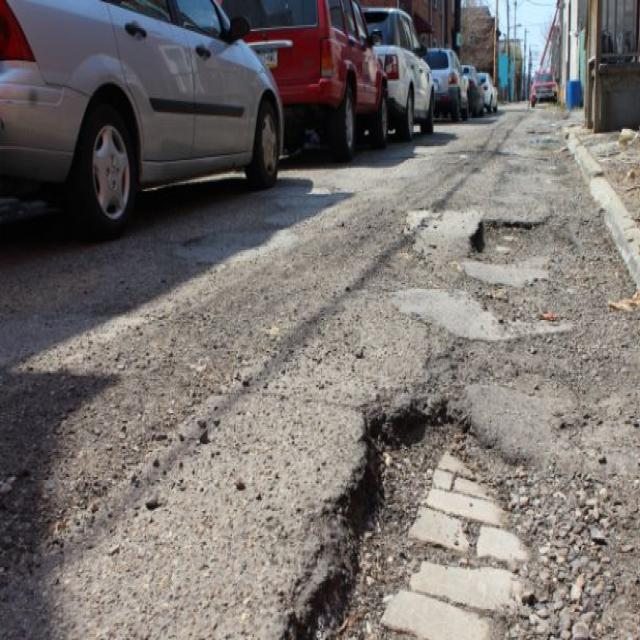Pothole: (282, 371, 544, 640), (470, 209, 545, 264)
